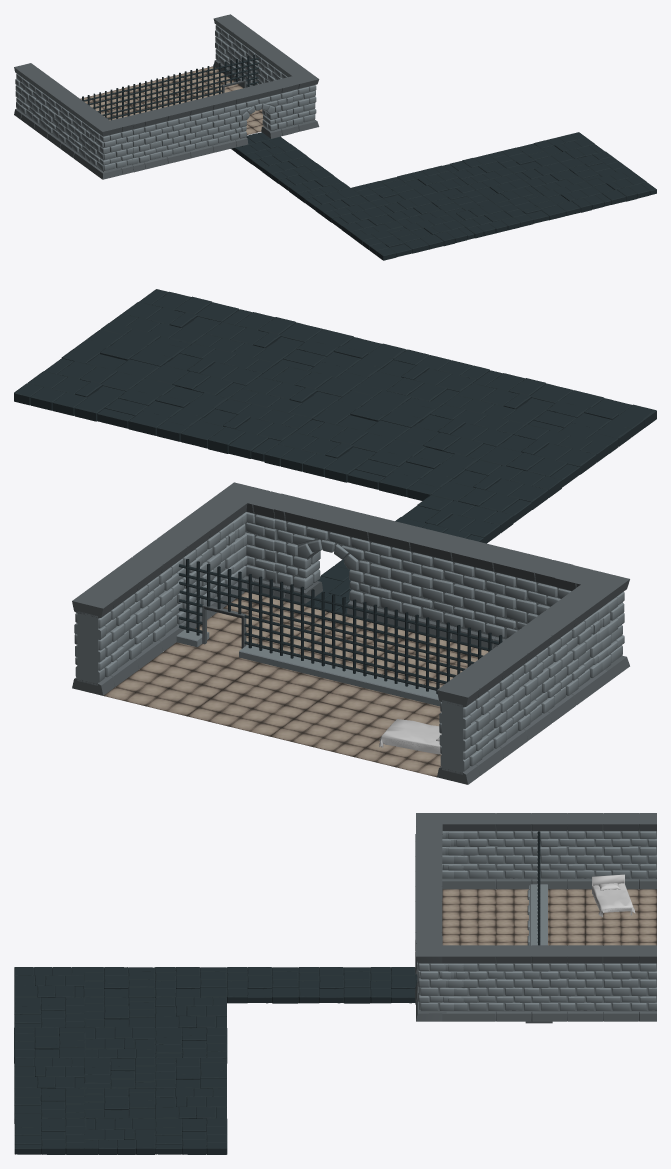
The model's file is ENV.fbx.
The picture shows the model from 3 angles, top to bottom: view 1: azimuth 30°, elevation 25°; view 2: azimuth 150°, elevation 25°; view 3: azimuth 270°, elevation 25°; orthographic projection. The views are drawn at different scales.
Parts seen in each view (by area): view 1: wall_door, wall.008, wall.007, wallCorner, wall, wall.001, wall.002, wall.003, wallCorner.001, Floor_Modular.016, Floor_Modular.018, Floor_Modular.021 (+27 smaller); view 2: wall_door, wall.007, wall, wall.003, wall.008, wall.001, wall.002, wall.004, wall_gate, wall_gateDoor, Floor_Modular.007, Floor_Modular.006 (+34 smaller); view 3: wall.003, wall.004, wall.001, wall, wall.005, wall.002, wallCorner.001, Floor_Modular.009, Floor_Modular.001, Floor_Modular.003, Floor_Modular.021, Floor_Modular.010 (+29 smaller).
Part boxes in pixels (x1=…): wall_door: x1=216, y1=78, x2=293, y2=149; wall.008: x1=125, y1=106, x2=179, y2=172; wall.007: x1=170, y1=95, x2=225, y2=160; wallCorner: x1=86, y1=116, x2=133, y2=179; wall: x1=14, y1=63, x2=56, y2=133; wall.001: x1=40, y1=82, x2=83, y2=152; wall.002: x1=66, y1=101, x2=109, y2=170; wall.003: x1=213, y1=14, x2=256, y2=85; wallCorner.001: x1=279, y1=66, x2=319, y2=132; Floor_Modular.016: x1=357, y1=226, x2=428, y2=260; Floor_Modular.018: x1=449, y1=203, x2=519, y2=238; Floor_Modular.021: x1=585, y1=170, x2=656, y2=204; wall_door: x1=263, y1=493, x2=405, y2=623; wall.007: x1=388, y1=524, x2=489, y2=643; wall: x1=437, y1=655, x2=516, y2=784; wall.003: x1=72, y1=566, x2=151, y2=695; wall.008: x1=472, y1=544, x2=572, y2=648; wall.001: x1=485, y1=619, x2=564, y2=749; wall.002: x1=533, y1=584, x2=612, y2=714; wall.004: x1=120, y1=530, x2=199, y2=660; wall_gate: x1=179, y1=564, x2=351, y2=682; wall_gateDoor: x1=176, y1=559, x2=446, y2=690; Floor_Modular.007: x1=181, y1=398, x2=311, y2=461; Floor_Modular.006: x1=264, y1=419, x2=394, y2=482; wall.003: x1=585, y1=945, x2=656, y2=1021; wall.004: x1=514, y1=945, x2=585, y2=1021; wall.001: x1=514, y1=813, x2=585, y2=889; wall: x1=585, y1=813, x2=656, y2=889; wall.005: x1=442, y1=945, x2=513, y2=1021; wall.002: x1=442, y1=813, x2=513, y2=889; wallCorner.001: x1=416, y1=936, x2=464, y2=1021; Floor_Modular.009: x1=155, y1=1118, x2=227, y2=1154; Floor_Modular.001: x1=298, y1=967, x2=370, y2=1003; Floor_Modular.003: x1=227, y1=967, x2=298, y2=1003; Floor_Modular.021: x1=14, y1=1118, x2=86, y2=1154; Floor_Modular.010: x1=84, y1=1118, x2=155, y2=1154.
Size of the model in its own units: 3569 by 480 by 3593.
